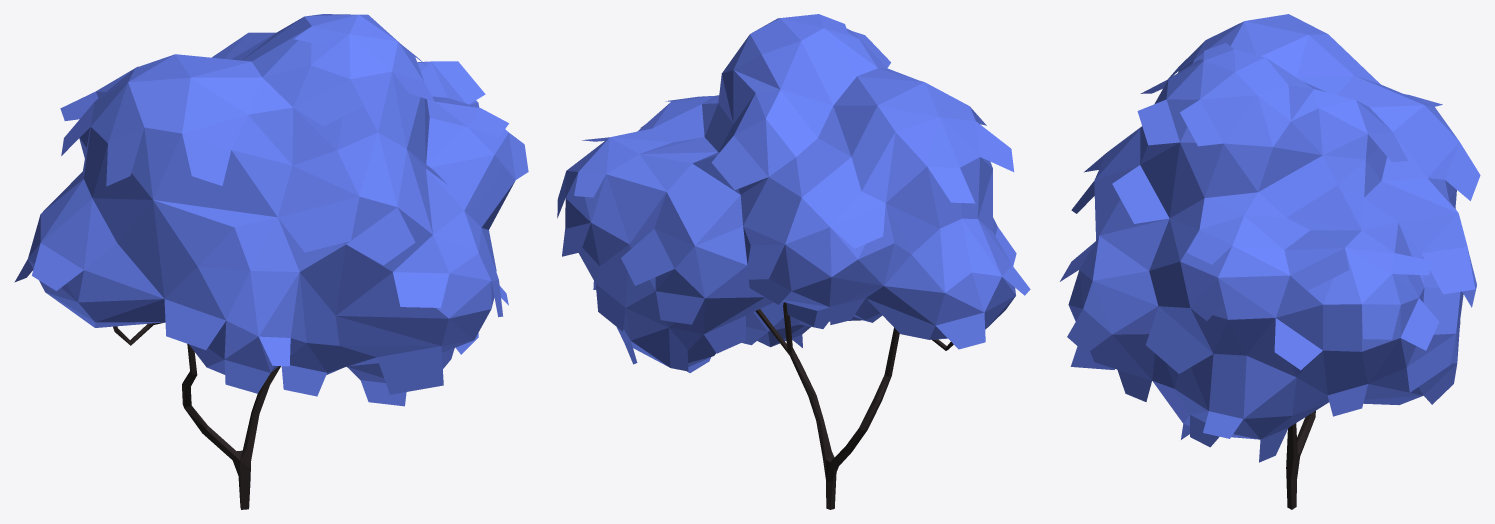
File: Tree_Forest_Blue_02.glb
3 views of the same model, side by side, from view 1: azimuth 30°, elevation 25°; view 2: azimuth 150°, elevation 25°; view 3: azimuth 270°, elevation 25° (orthographic). The views are drawn at different scales.
Parts seen in each view (by area): view 1: Tree_Forest_Blue_02; view 2: Tree_Forest_Blue_02; view 3: Tree_Forest_Blue_02.
Part boxes in pixels (x1,y1,x2,y2): Tree_Forest_Blue_02: [14, 14, 528, 509]; Tree_Forest_Blue_02: [557, 14, 1030, 509]; Tree_Forest_Blue_02: [1060, 14, 1480, 509].
Size of what is drawn, in the model's own units: 12.03 by 11.96 by 9.6.
1 material, 1 textured.
